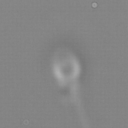normal: (60, 85, 103, 128)
